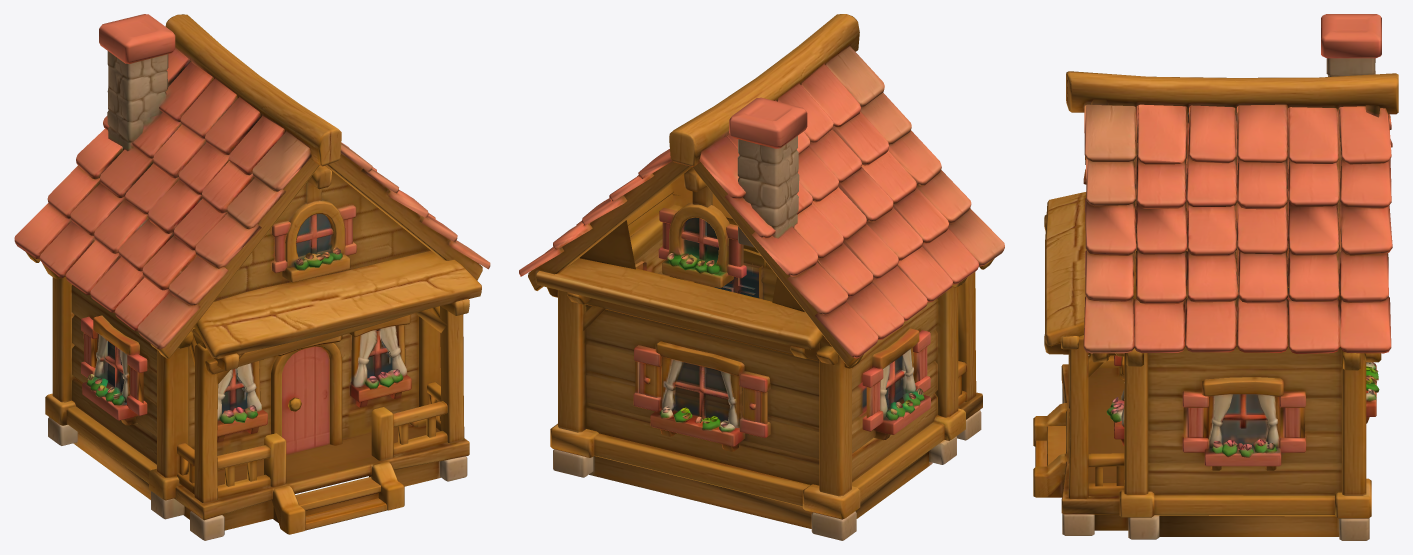
3 renders of one model, left to right at view 1: azimuth 30°, elevation 25°; view 2: azimuth 150°, elevation 25°; view 3: azimuth 270°, elevation 25°, orthographic. The views are drawn at different scales.
Parts seen in each view (by area): view 1: house-tier1; view 2: house-tier1; view 3: house-tier1.
Boxes of the visible parts, x1,y1,x2,y2 form: house-tier1: [14, 14, 490, 540]; house-tier1: [519, 14, 1004, 540]; house-tier1: [1033, 14, 1398, 540].
Size of the model in its own units: 4.92 by 5.63 by 4.47.
Materials: 1 (1 with a texture image).
